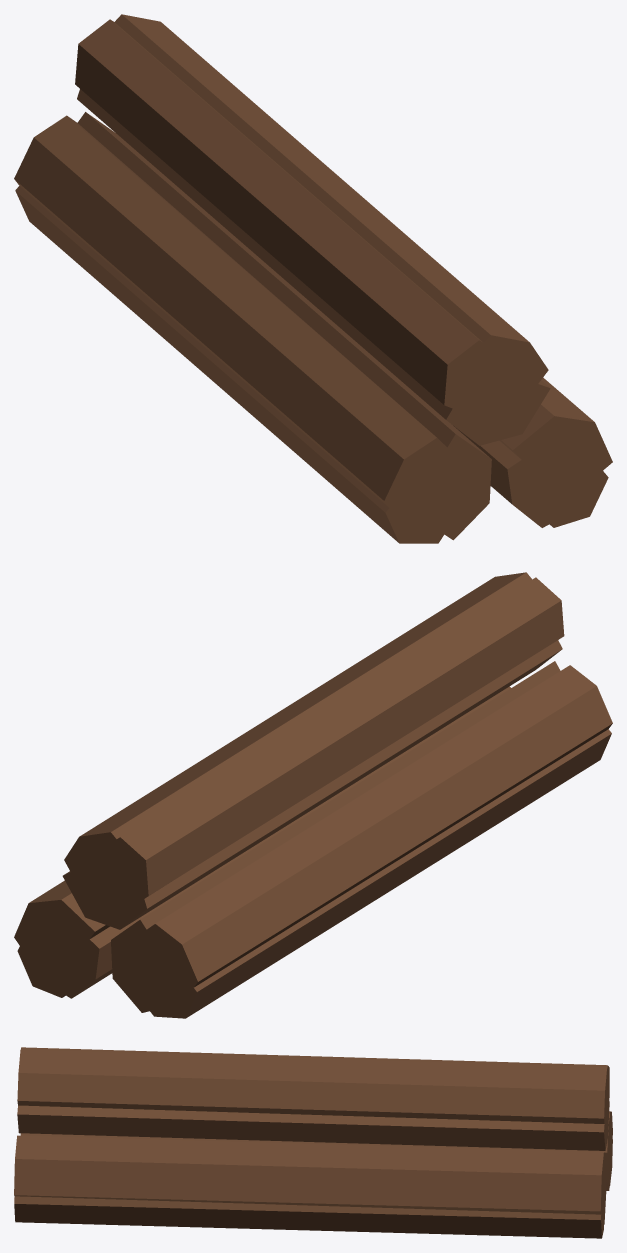
The model's file is wood.fbx.
The picture shows the model from 3 angles, top to bottom: view 1: azimuth 30°, elevation 25°; view 2: azimuth 150°, elevation 25°; view 3: azimuth 270°, elevation 25°; orthographic projection. The views are drawn at different scales.
Parts seen in each view (by area): view 1: wood; view 2: wood; view 3: wood.
Part boxes in pixels (box(x1,y1,x2,y2)): wood: box(14, 14, 612, 543); wood: box(14, 572, 612, 1018); wood: box(14, 1047, 612, 1238).
Size of the model in its own units: 35.82 by 26.14 by 99.01.
